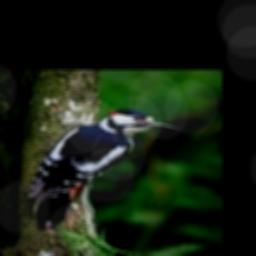Woodpecker: (28, 109, 179, 231)
